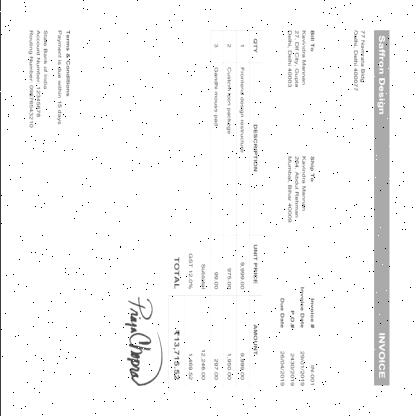Paragraph: (171, 252, 205, 382), (26, 28, 70, 128), (278, 286, 314, 387), (286, 154, 314, 224), (286, 30, 314, 88), (352, 30, 364, 91), (376, 35, 384, 115), (378, 332, 384, 378)
Table: (209, 30, 261, 386)
